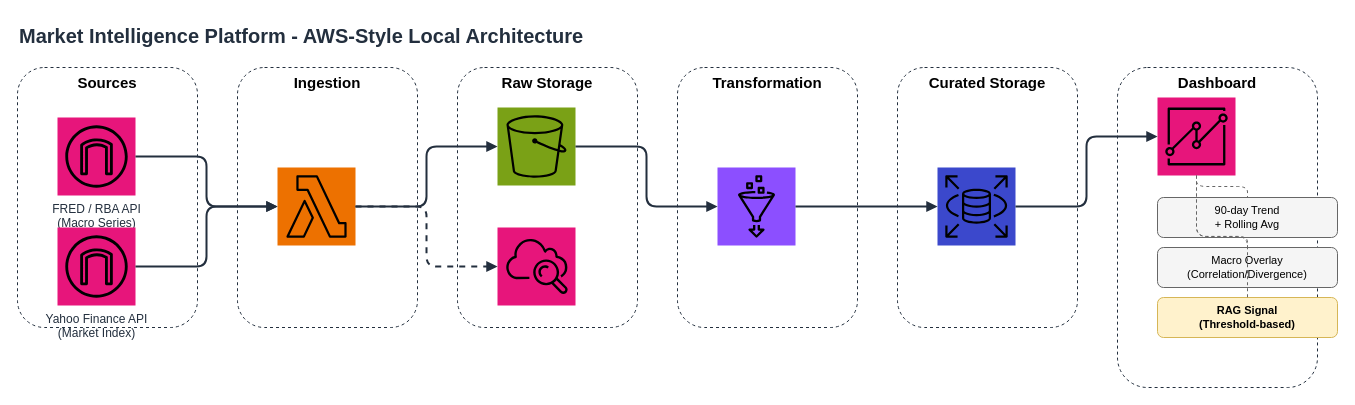
Some shapes in this 1355 by 405 pixel diagram are drawn without their labels. Each missing label, with the centre of its shape:
"Clean / Align / Join + Metrics (ETL)" belongs at (756,206).
"Curated Tables (DuckDB / RDS style)" belongs at (976,206).
"DQ Logs (CloudWatch style)" belongs at (536,266).
"Extractor Functions (retry / timeout)" belongs at (316,206).
"Raw Data (S3 / Parquet)" belongs at (536,146).
"Streamlit App (QuickSight style)" belongs at (1196,136).
